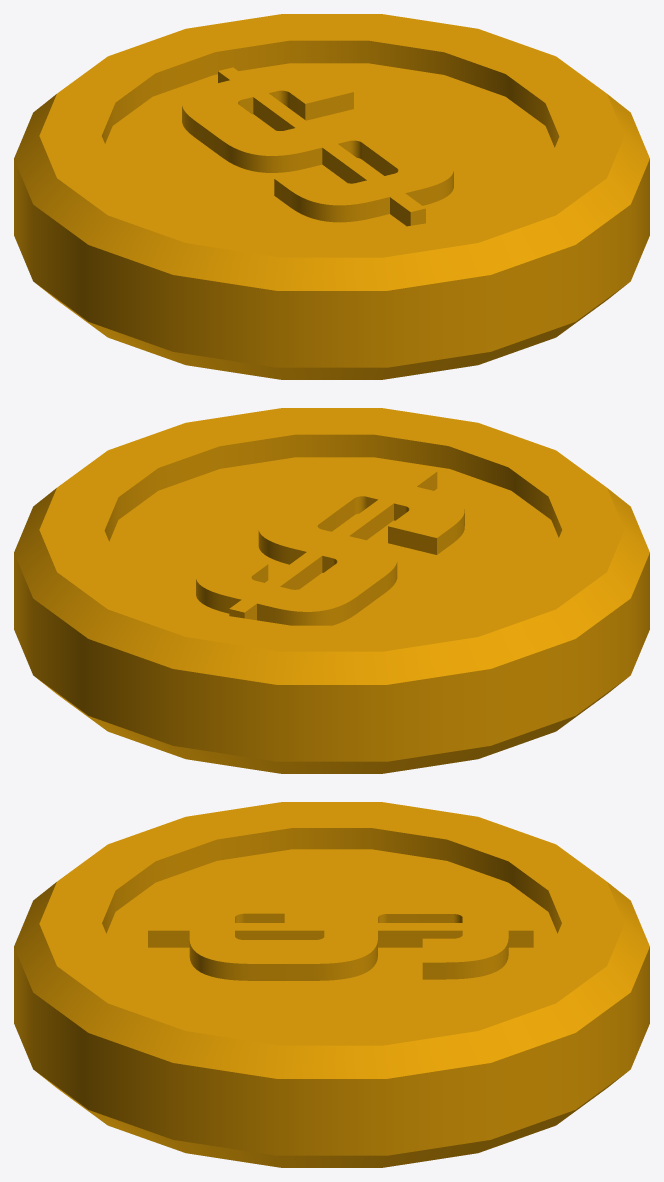
Rendered from Coin_new.glb.
The picture shows the model from 3 angles, top to bottom: view 1: azimuth 30°, elevation 25°; view 2: azimuth 150°, elevation 25°; view 3: azimuth 270°, elevation 25°; orthographic projection.
Parts seen in each view (by area): view 1: Coin; view 2: Coin; view 3: Coin.
Part boxes in pixels (bbox=[...]): Coin: bbox=[14, 14, 649, 379]; Coin: bbox=[14, 408, 649, 773]; Coin: bbox=[14, 802, 649, 1167].
Bounding box in the file's own units: 1.97 × 0.424 × 2.
